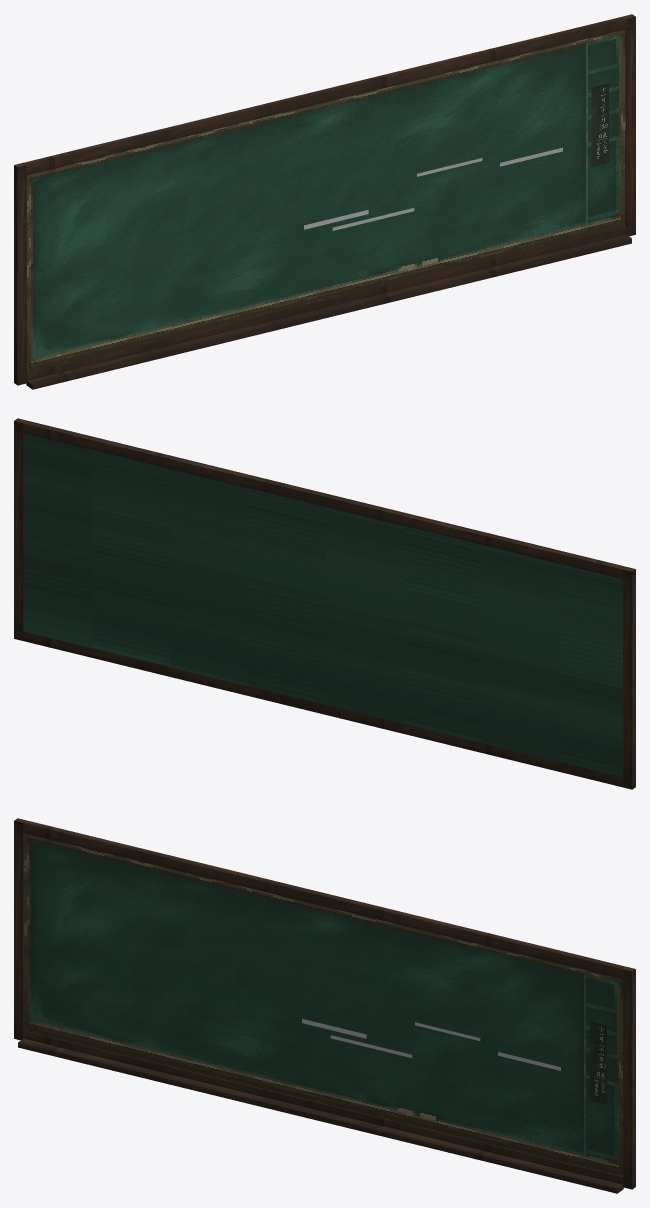
Rendered from prop_blackboard-large-0.glb.
3 views of the same model, one above another, from view 1: azimuth 30°, elevation 25°; view 2: azimuth 150°, elevation 25°; view 3: azimuth 330°, elevation 25° (orthographic).
Visible parts, largest first — view 1: prop_blackboard-large-0; view 2: prop_blackboard-large-0; view 3: prop_blackboard-large-0.
Boxes of the visible parts, x1,y1,x2,y2 form: prop_blackboard-large-0: [14, 14, 635, 389]; prop_blackboard-large-0: [14, 418, 635, 789]; prop_blackboard-large-0: [14, 818, 635, 1193].
Bounding box in the file's own units: 3.92 × 1.34 × 0.1.
4 materials, 4 textured.
